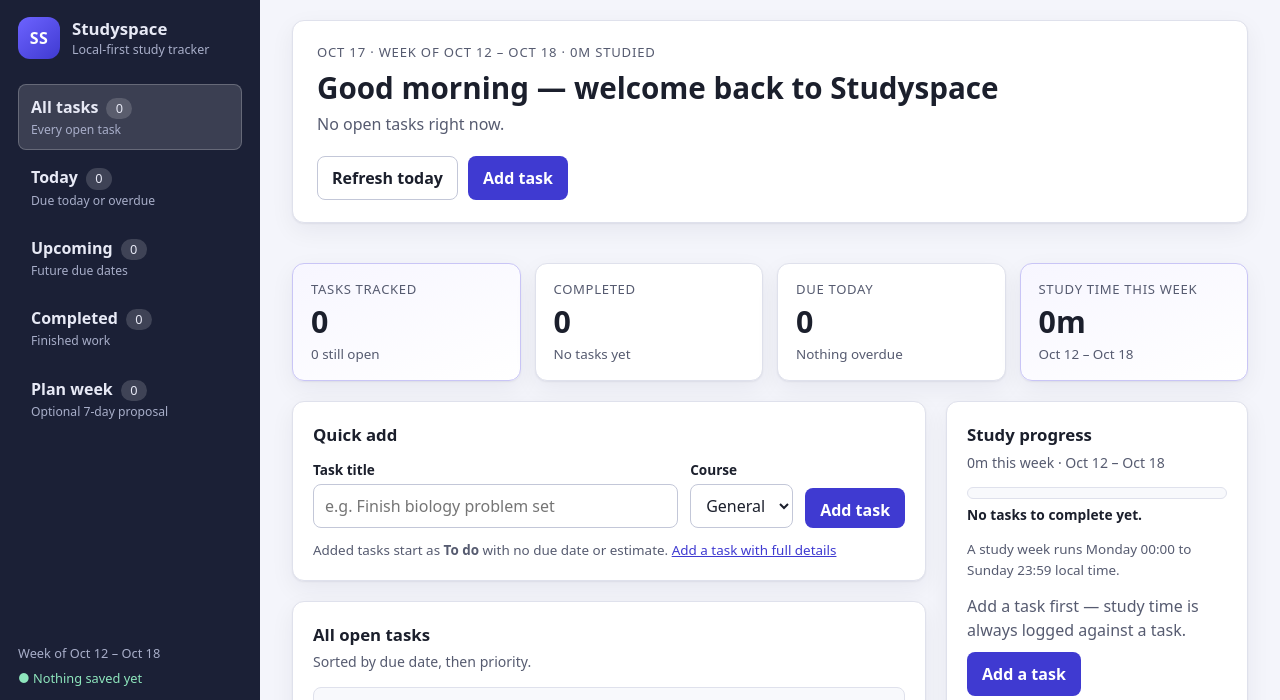
Studyspace dashboard workflows › completes a task, moves it out of the open list and into Completed
Type "Read chapter 4" into the field labelled "Task title". click: x=496, y=506
box: [313, 484, 678, 528]
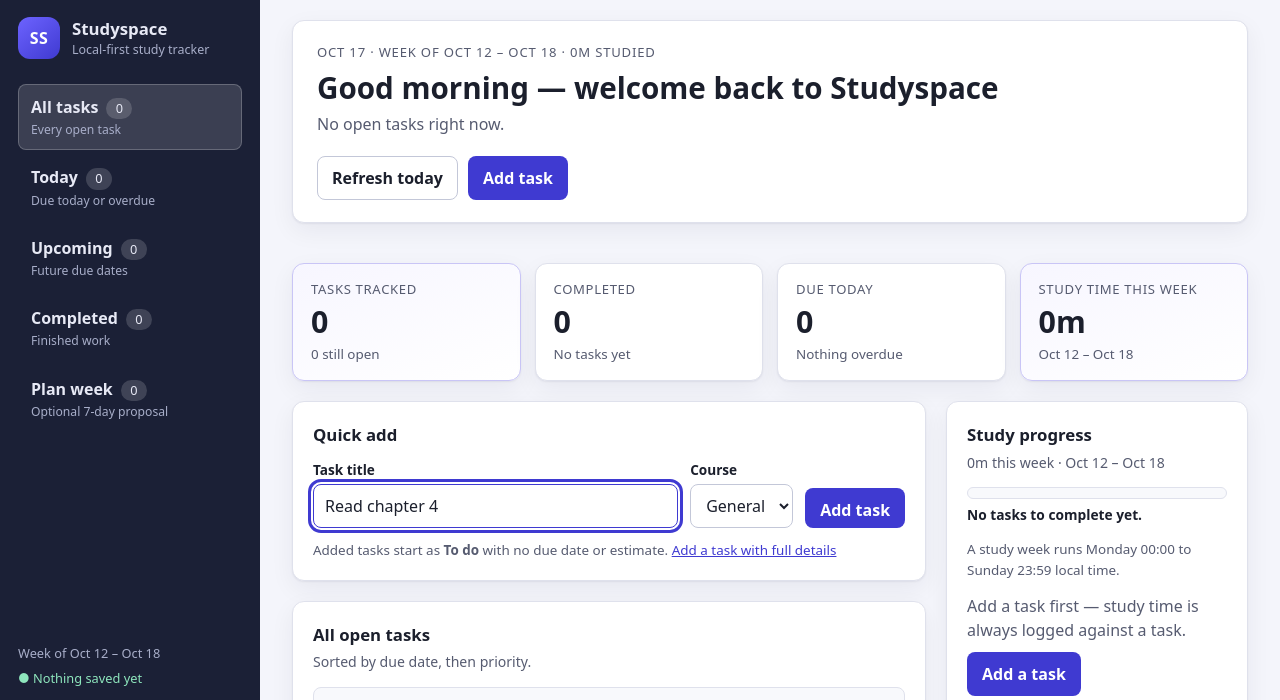
Click the button "Add task" next to "No tasks to complete yet.". click: x=855, y=508
box: [805, 488, 905, 528]
(page scrolled)
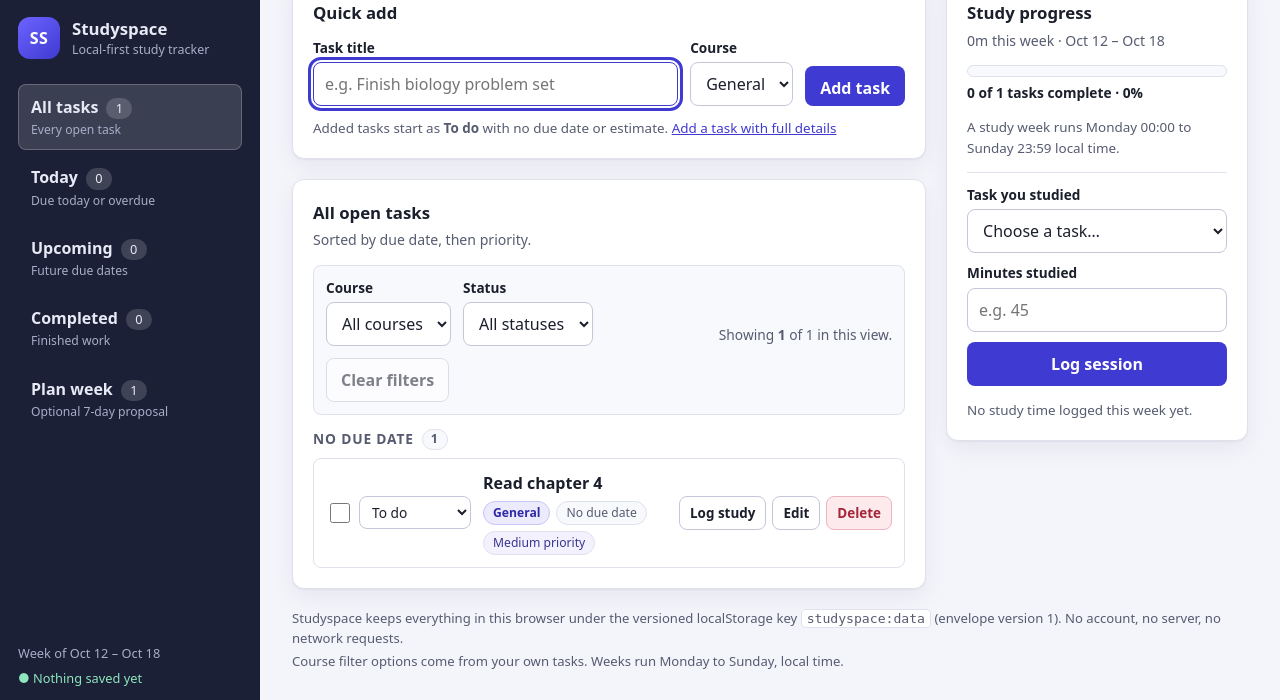
Result: the text "Read chapter 4" is shown at [483, 472, 602, 494]
Click the checkbox named "Mark “Read chapter 4” as done". click: x=340, y=513
box: [330, 503, 350, 523]
(page scrolled)
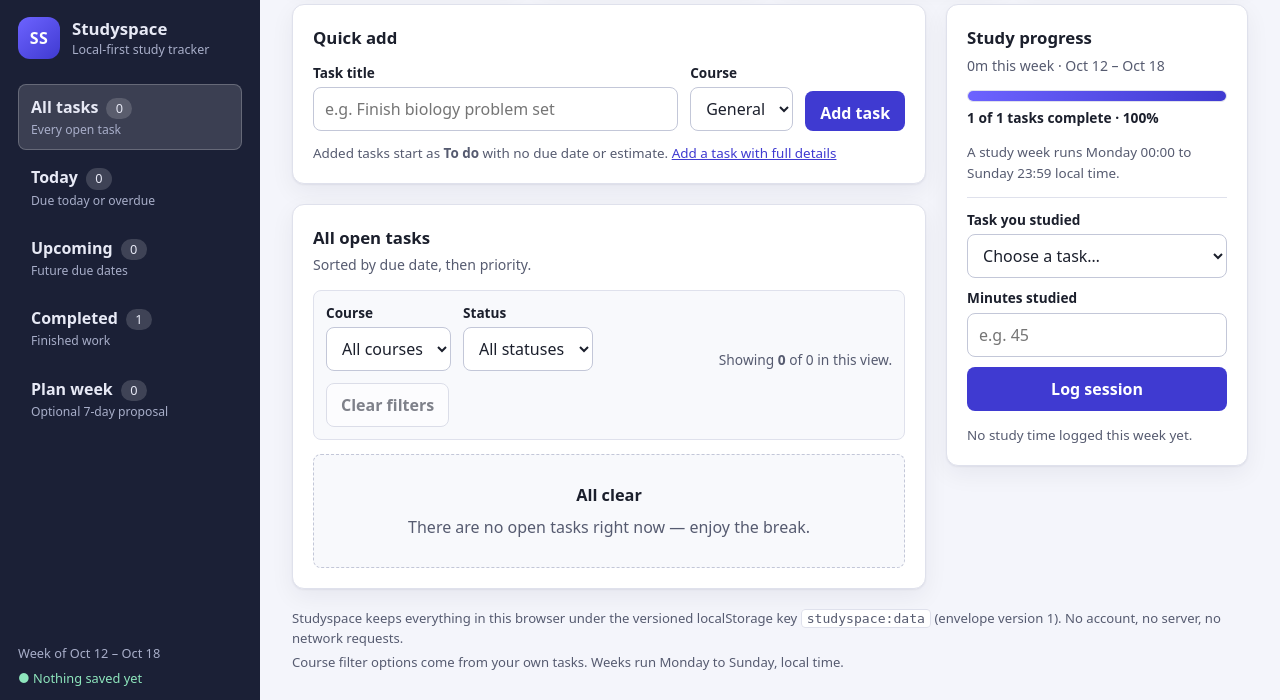
Result: the text "Read chapter 4" is gone
Click the button "Completed 1 Finished work". click: x=130, y=328
box: [18, 295, 242, 362]
(page scrolled)
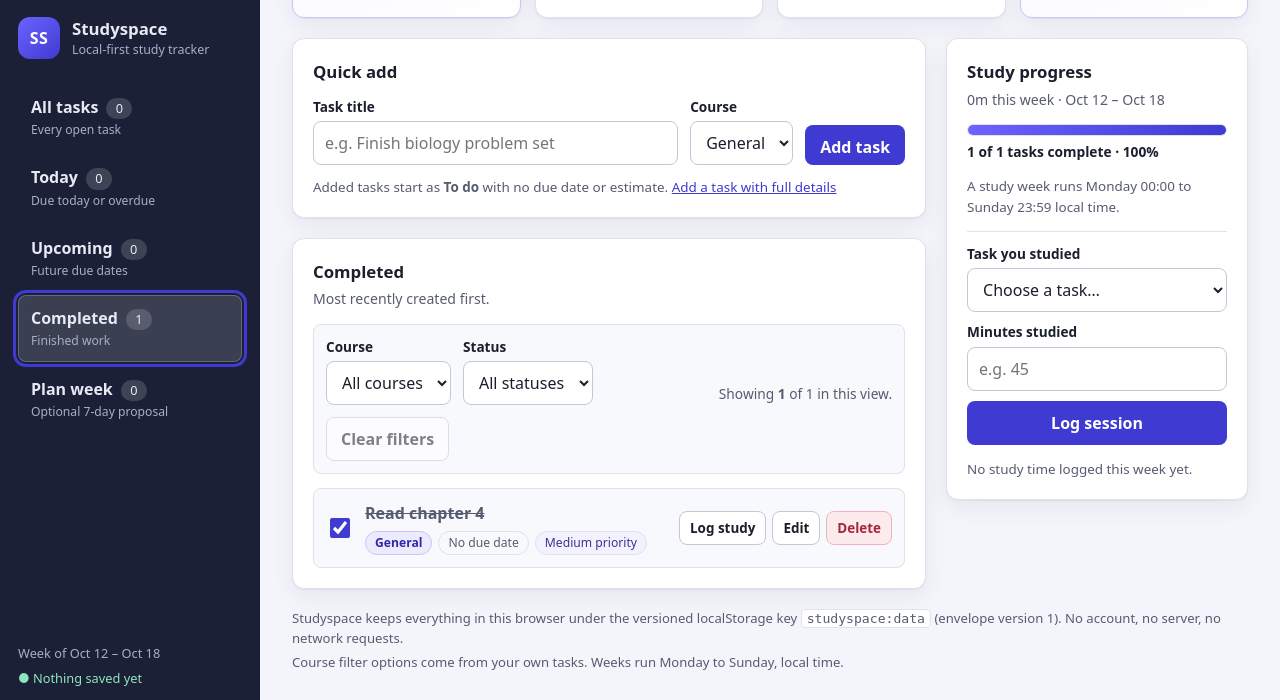
Result: the text "Read chapter 4" is shown at [365, 502, 484, 524]
Result: the heading "Completed" is shown at [313, 260, 404, 283]
